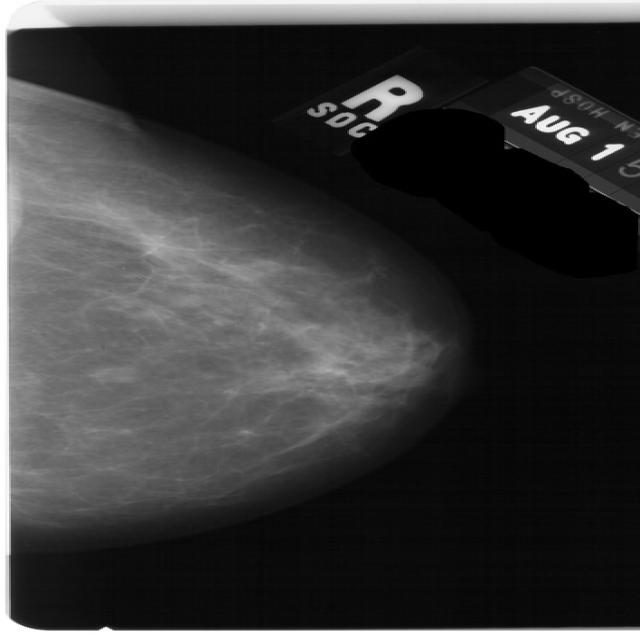tumour: (85, 364, 136, 382)
